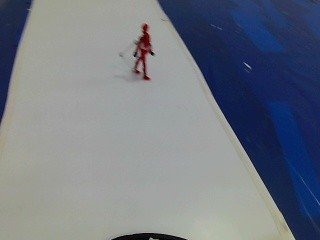pedestrian: (130, 22, 158, 79)
